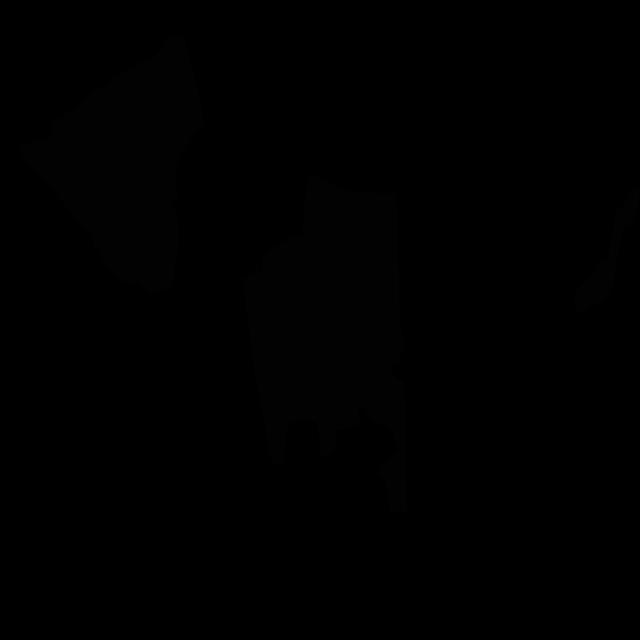cardboard: (17, 32, 204, 294), (302, 173, 407, 513), (243, 227, 360, 465), (574, 189, 640, 313)
